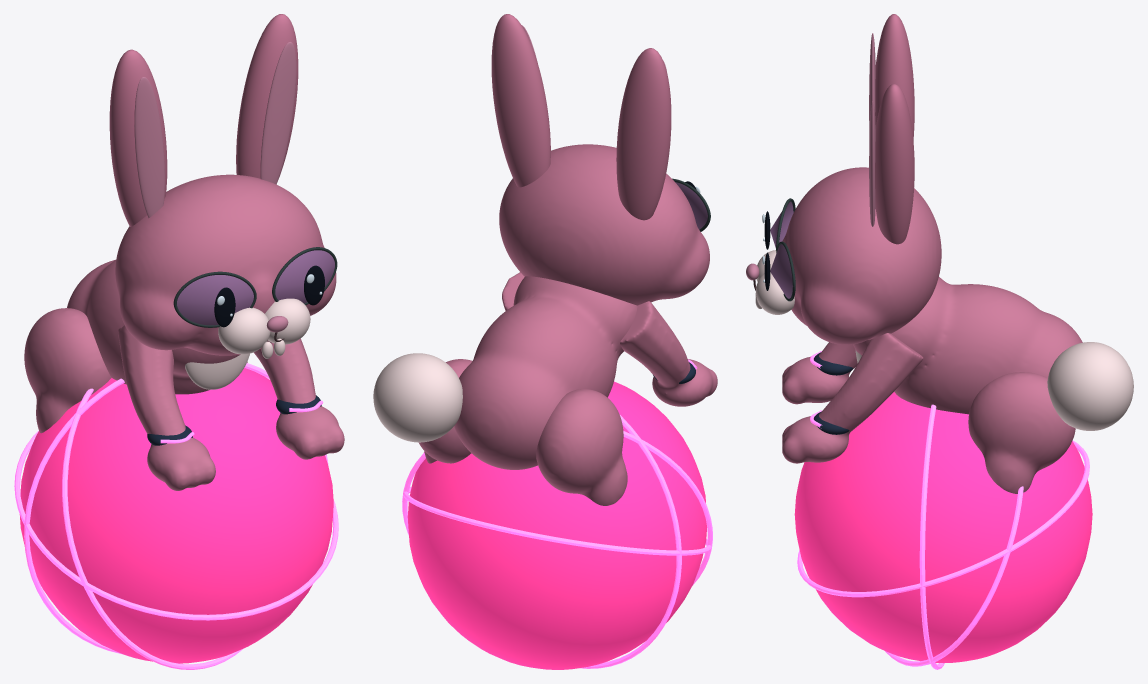
The model's file is pink-bunny.glb.
3 views of the same model, side by side, from view 1: azimuth 30°, elevation 25°; view 2: azimuth 150°, elevation 25°; view 3: azimuth 270°, elevation 25° (orthographic). The views are drawn at different scales.
Visible parts, largest first — view 1: Gliding orb, Feline head sculpt, Foreleg and soft paw, Bent rear leg, Foreleg and soft paw.001, Cat torso sculpt, Long bunny ear, Long bunny ear.001, Soft ear interior, Soft ear interior.001, Orb energy ring, Orb energy ring.001 (+9 smaller); view 2: Gliding orb, Feline head sculpt, Cat torso sculpt, Bent rear leg, Long bunny ear, Long bunny ear.001, Cotton tail, Foreleg and soft paw, Orb energy ring, Orb energy ring.002, Orb energy ring.001, Bent rear leg.001 (+1 smaller); view 3: Gliding orb, Feline head sculpt, Cat torso sculpt, Bent rear leg.001, Foreleg and soft paw.001, Cotton tail, Long bunny ear.001, Foreleg and soft paw, Long bunny ear, Orb energy ring, Orb energy ring.002, Orb energy ring.001 (+3 smaller).
Boxes of the visible parts, x1,y1,x2,y2 form: Gliding orb: (19, 368, 333, 663); Feline head sculpt: (115, 174, 336, 355); Foreleg and soft paw: (118, 325, 215, 490); Bent rear leg: (24, 308, 111, 433); Foreleg and soft paw.001: (253, 338, 344, 459); Cat torso sculpt: (67, 259, 239, 394); Long bunny ear: (109, 49, 167, 226); Long bunny ear.001: (236, 14, 298, 181); Soft ear interior: (134, 77, 164, 217); Soft ear interior.001: (260, 42, 296, 184); Orb energy ring: (14, 430, 338, 620); Orb energy ring.001: (62, 388, 243, 669); Gliding orb: (407, 381, 707, 669); Feline head sculpt: (499, 144, 709, 305); Cat torso sculpt: (454, 276, 637, 469); Bent rear leg: (536, 389, 627, 505); Long bunny ear: (616, 48, 671, 220); Long bunny ear.001: (491, 14, 550, 187); Cotton tail: (373, 353, 462, 442); Foreleg and soft paw: (620, 301, 717, 406); Orb energy ring: (403, 487, 711, 555); Orb energy ring.002: (579, 415, 681, 668); Orb energy ring.001: (402, 431, 712, 585); Bent rear leg.001: (419, 359, 472, 463); Gliding orb: (794, 392, 1092, 663); Feline head sculpt: (782, 167, 941, 344); Cat torso sculpt: (853, 277, 1082, 414); Bent rear leg.001: (968, 372, 1075, 493); Foreleg and soft paw.001: (782, 333, 923, 463); Cotton tail: (1047, 342, 1133, 430); Long bunny ear.001: (875, 84, 914, 244); Foreleg and soft paw: (782, 342, 857, 404); Long bunny ear: (875, 14, 914, 140); Orb energy ring: (797, 440, 1089, 597); Orb energy ring.002: (919, 404, 944, 669); Orb energy ring.001: (885, 486, 1023, 666).
Size of the model in its own units: 1.51 by 3.24 by 1.88.
